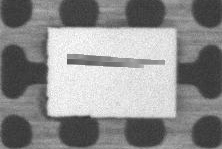DIE_INK: (64, 51, 165, 69)
